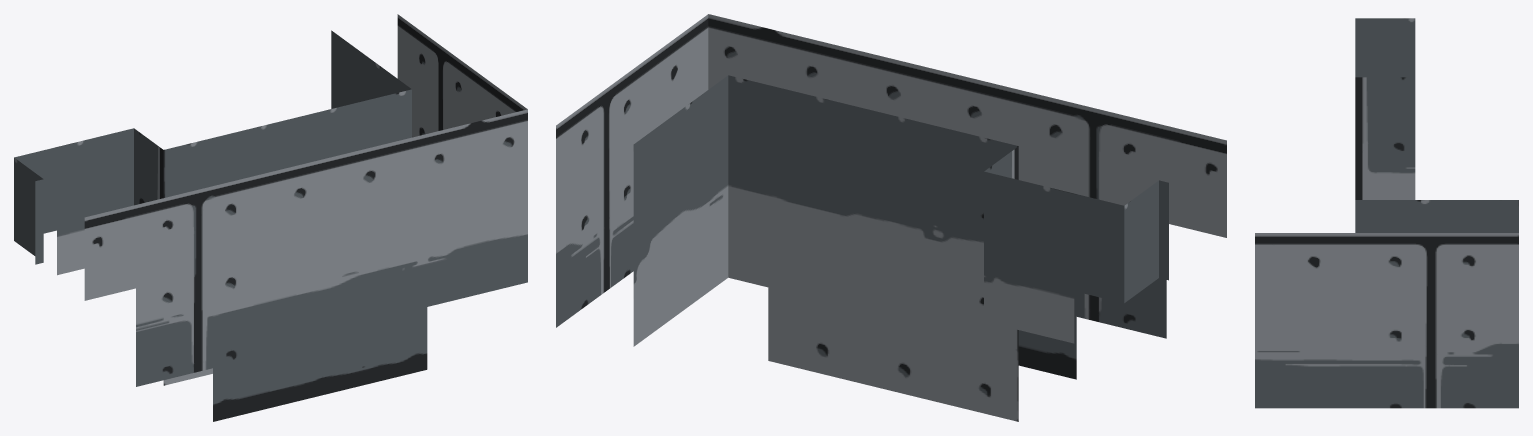
Rendered from 02beginwall.fbx.
3 renders of one model, left to right at view 1: azimuth 30°, elevation 25°; view 2: azimuth 150°, elevation 25°; view 3: azimuth 270°, elevation 25°, orthographic. The views are drawn at different scales.
Visible parts, largest first — view 1: Stairs__1_.007; view 2: Stairs__1_.007; view 3: Stairs__1_.007.
Boxes of the visible parts, box(x1,y1,x2,y2) form: Stairs__1_.007: box(14, 14, 527, 421); Stairs__1_.007: box(556, 14, 1226, 421); Stairs__1_.007: box(1255, 18, 1518, 408).
Bounding box in the file's own units: 51.75 × 26.31 × 26.34.
